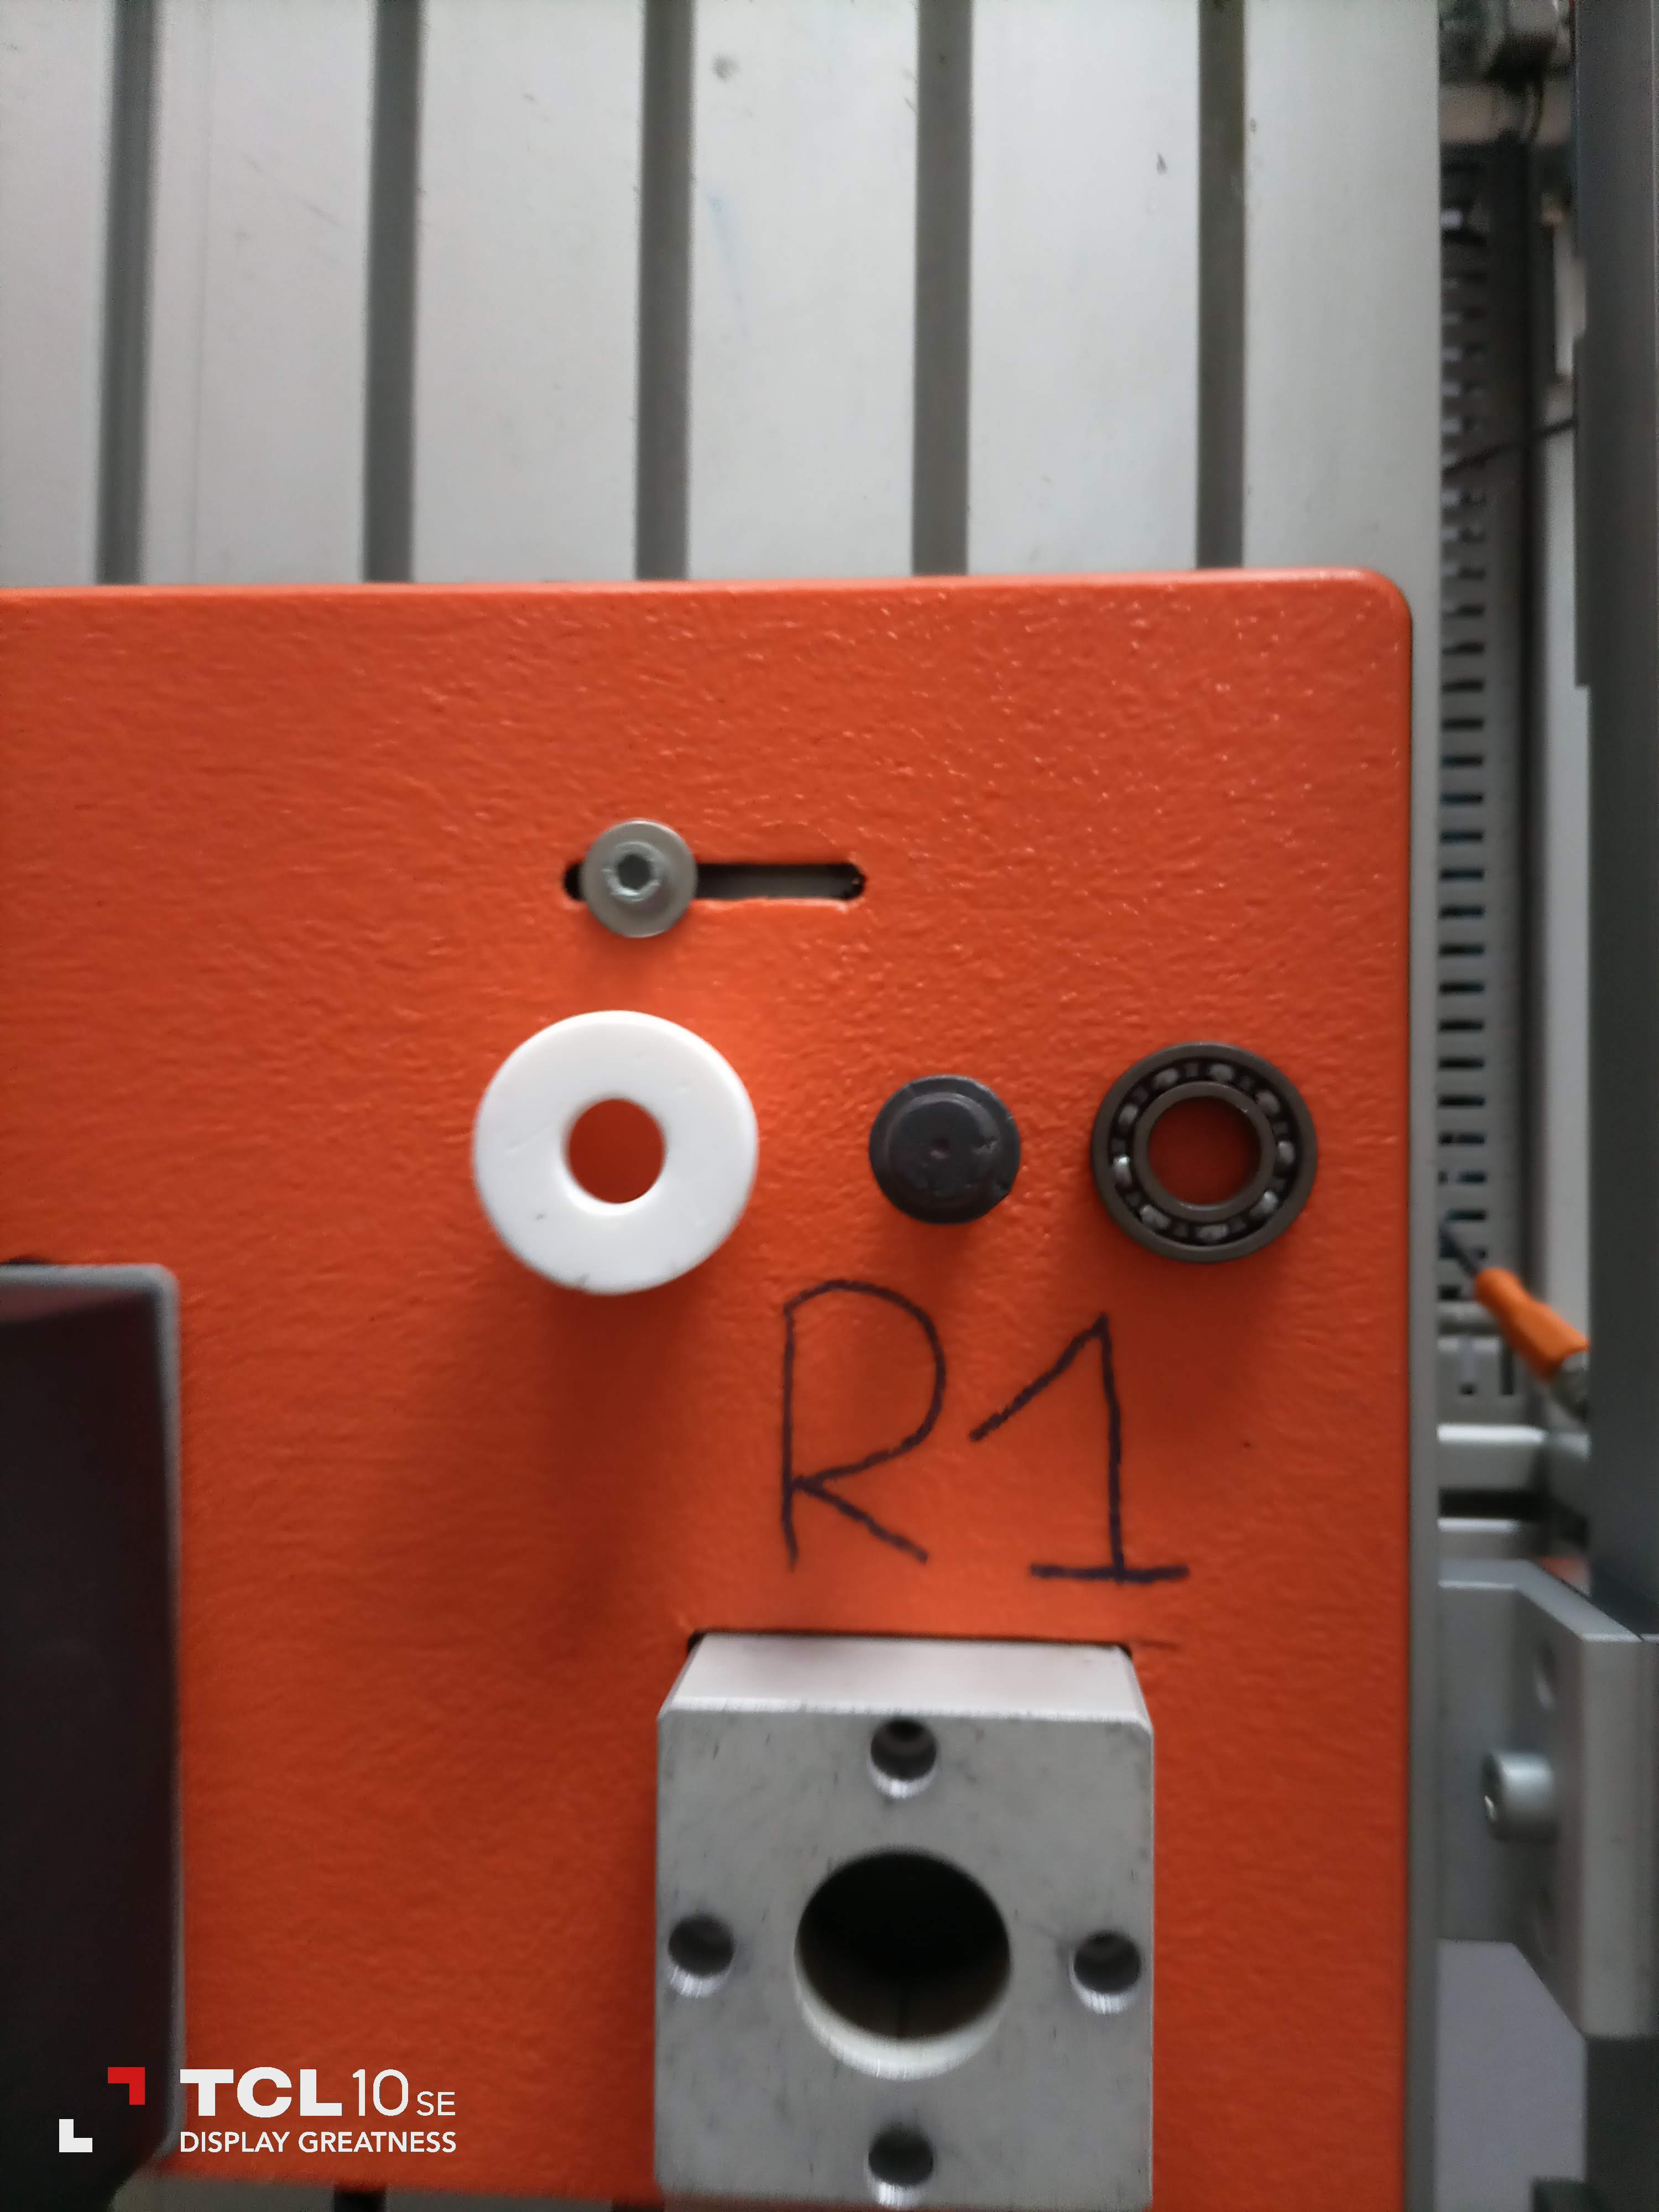Ardatza: (852, 1083, 1032, 1224)
Roda: (1087, 1040, 1328, 1271)
Tapa: (460, 1007, 760, 1284)
